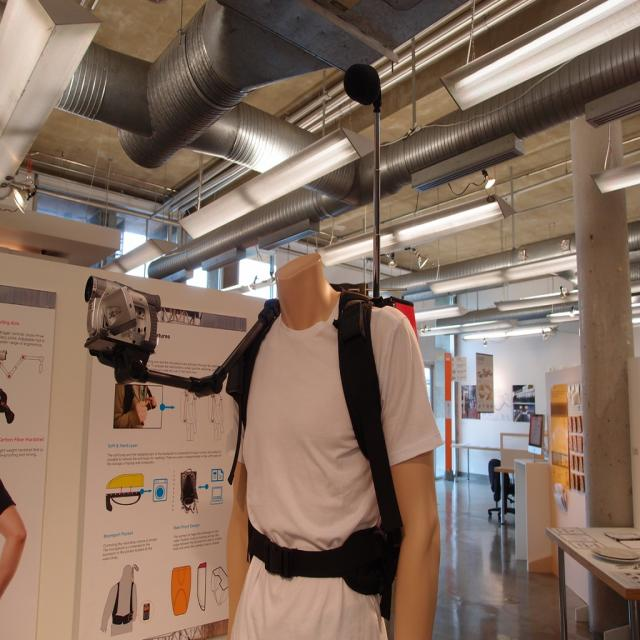chair: (487, 464, 514, 524)
desk: (540, 519, 640, 638)
person: (224, 254, 420, 640), (0, 478, 28, 598)
tv: (528, 414, 544, 448)
